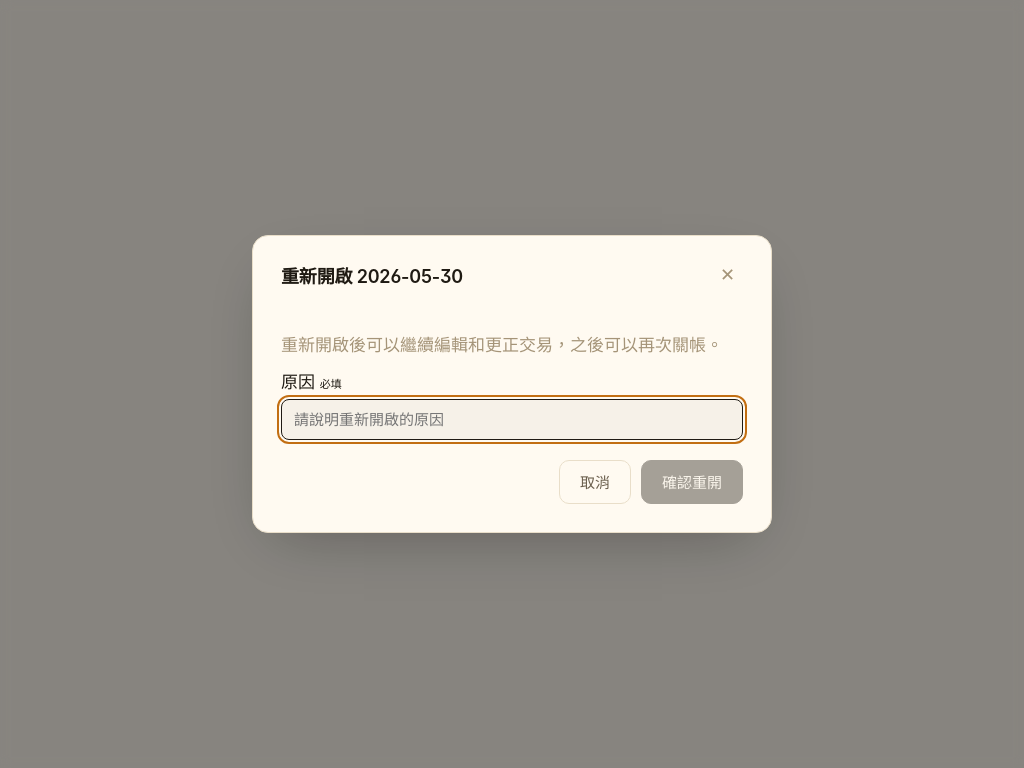
ReopenDialog › 確認重開 button enabled when reason has text
The width and height of the screenshot is (1024, 768).
In the field with placeholder "請說明重新開啟的原因": point(512, 420) [281,399,743,440], type "need to fix"
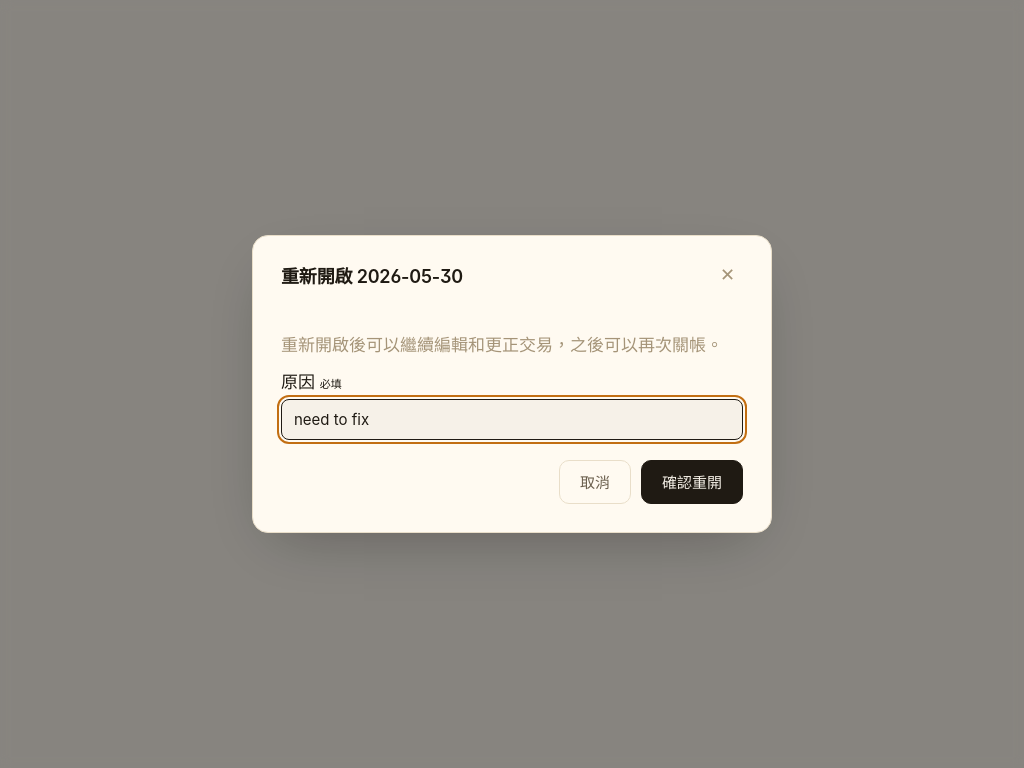
expect the button "確認重開" is enabled: met, box [641,460,743,504]
